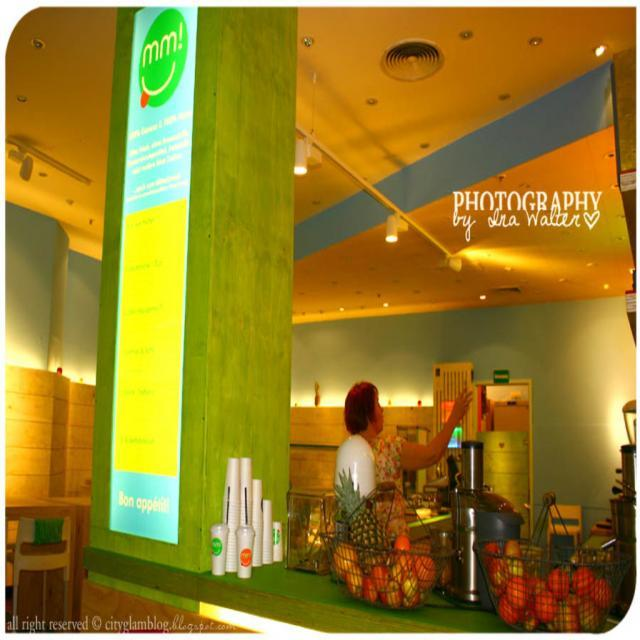Pineapple: (330, 464, 395, 572)
